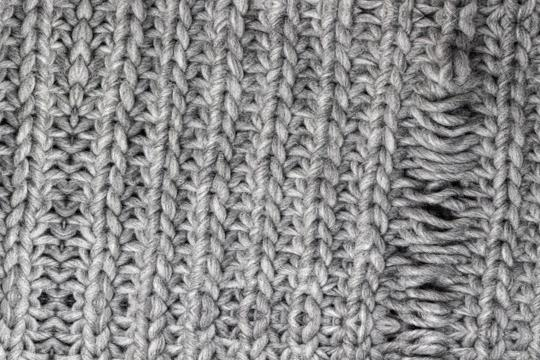slub: (378, 84, 493, 360)
